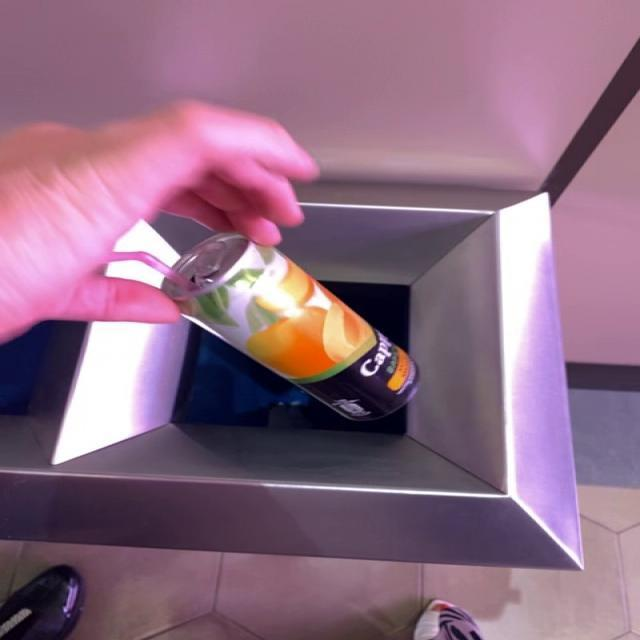Bin: (1, 183, 583, 570)
Metal: (119, 234, 419, 422)
